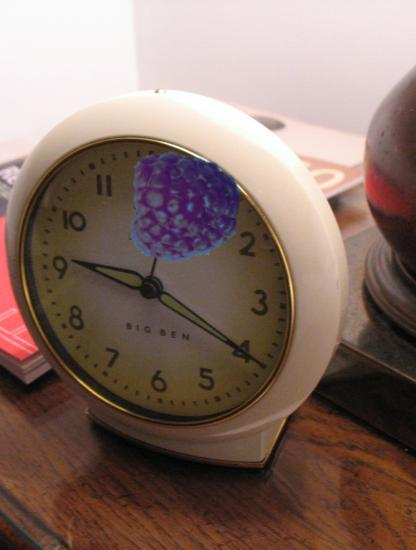Raspberry: (128, 152, 241, 265)
